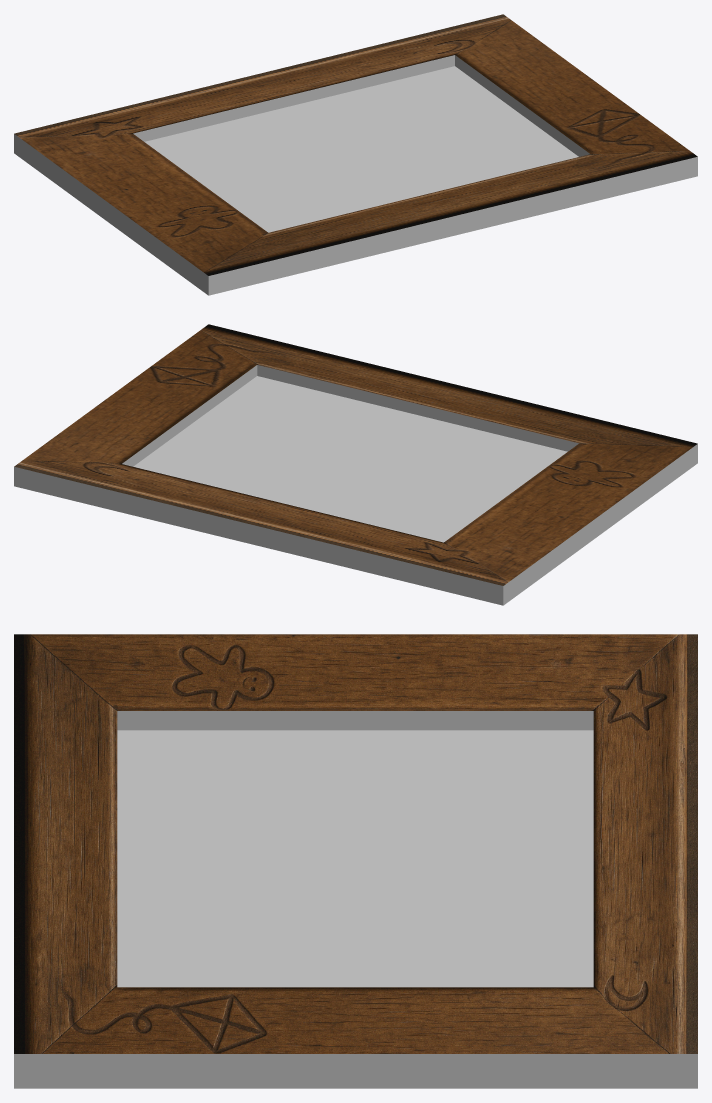
Rendered from çocukluanı3.fbx.
3 views of the same model, one above another, from view 1: azimuth 30°, elevation 25°; view 2: azimuth 150°, elevation 25°; view 3: azimuth 270°, elevation 25° (orthographic). The views are drawn at different scales.
Visible parts, largest first — view 1: Çocukluk Anı 3; view 2: Çocukluk Anı 3; view 3: Çocukluk Anı 3.
Part boxes in pixels (x1,y1,x2,y2): Çocukluk Anı 3: (14, 14, 697, 295); Çocukluk Anı 3: (14, 324, 697, 605); Çocukluk Anı 3: (14, 634, 697, 1088).
Bounding box in the file's own units: 399 × 15.28 × 275.
